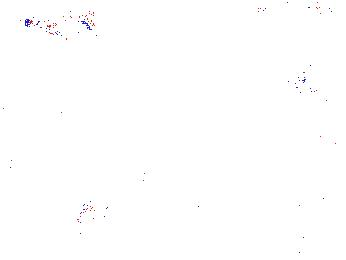glassfish: (69, 162, 163, 225)
red belly glassfish: (318, 122, 346, 144), (300, 73, 329, 93)
redtail glassfish: (21, 11, 96, 33)
